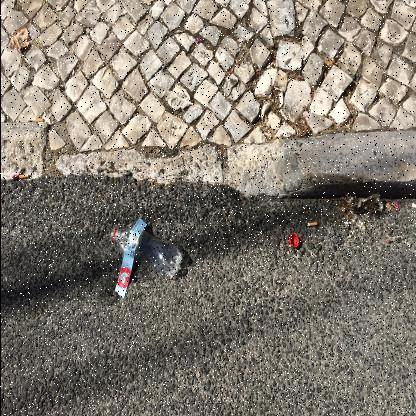other: (306, 222, 316, 227)
plastic: (109, 219, 182, 299), (288, 233, 298, 248)
